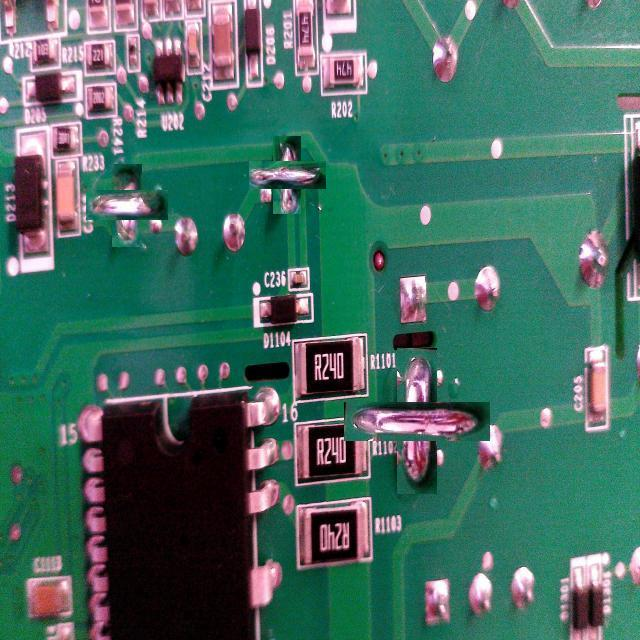Short_circuit: (371, 374, 464, 468), (99, 177, 155, 234), (260, 148, 314, 202)
